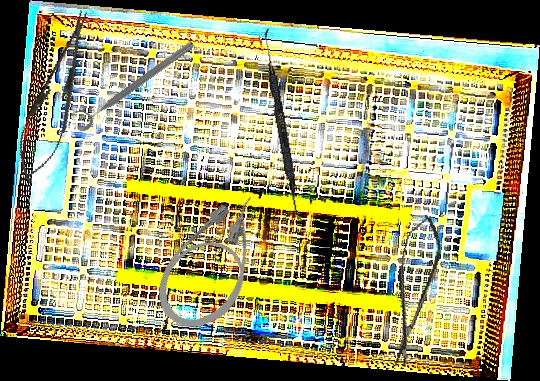Cannula: (142, 181, 291, 344)
Fixation Ring: (67, 31, 198, 134)
Micro Scissor: (378, 211, 448, 371)
Needle Holder: (5, 2, 106, 191)
Spatula Surgical: (257, 29, 305, 216)
